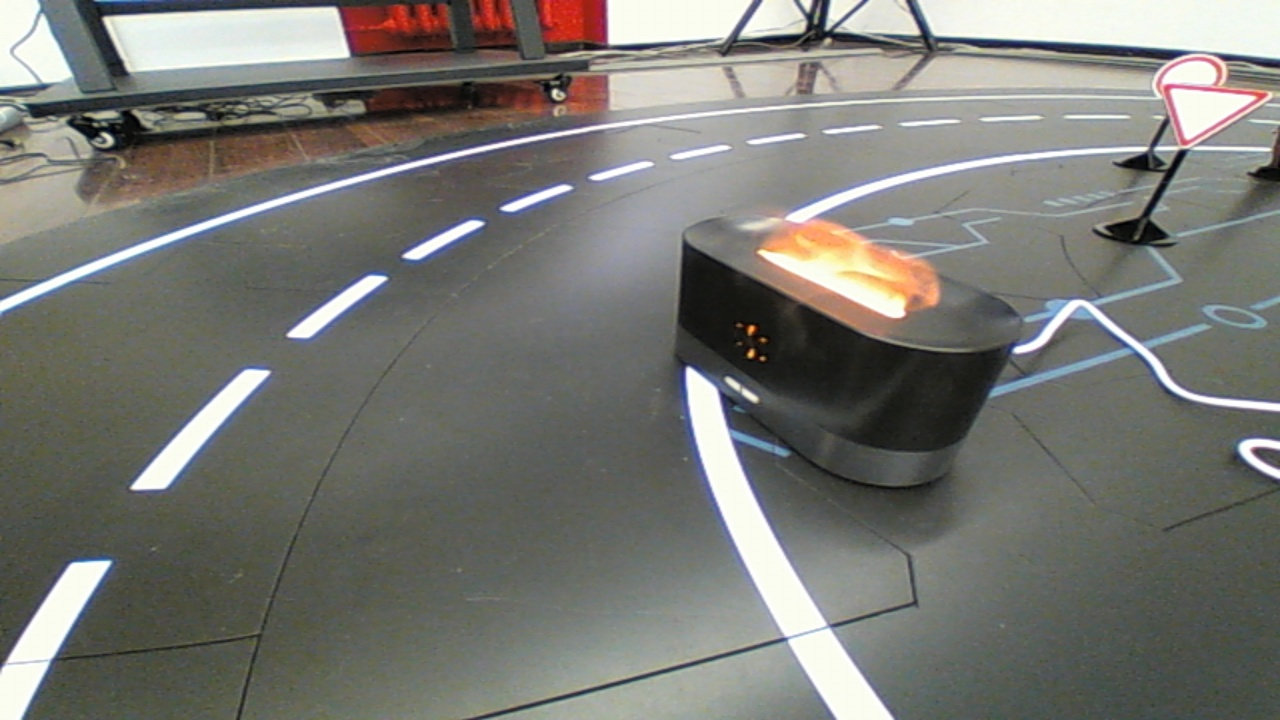Movement prohibition: (645, 207, 1044, 503)
